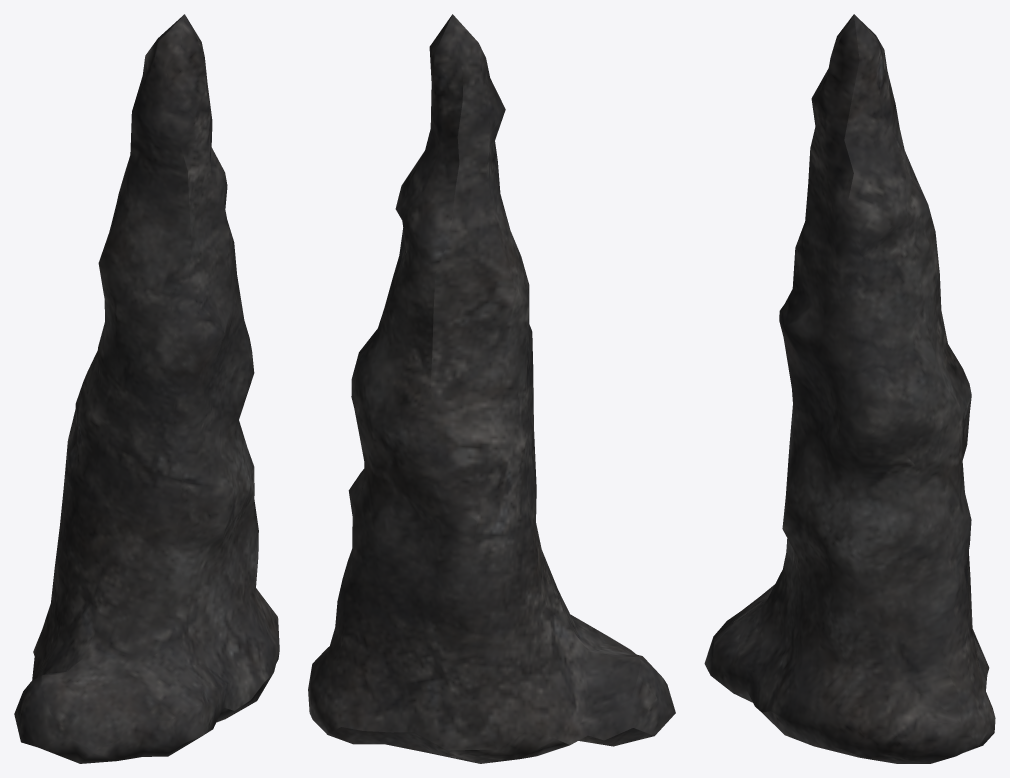
Rendered from TallBottom.fbx.
3 renders of one model, left to right at view 1: azimuth 30°, elevation 25°; view 2: azimuth 150°, elevation 25°; view 3: azimuth 270°, elevation 25°, orthographic. The views are drawn at different scales.
Parts seen in each view (by area): view 1: TallBottom; view 2: TallBottom; view 3: TallBottom.
Boxes of the visible parts, x1,y1,x2,y2 form: TallBottom: (14,14,279,763); TallBottom: (308,14,675,763); TallBottom: (704,14,995,763).
Bounding box in the file's own units: 80.16 × 180 × 66.67.
Materials: 1 (1 with a texture image).
